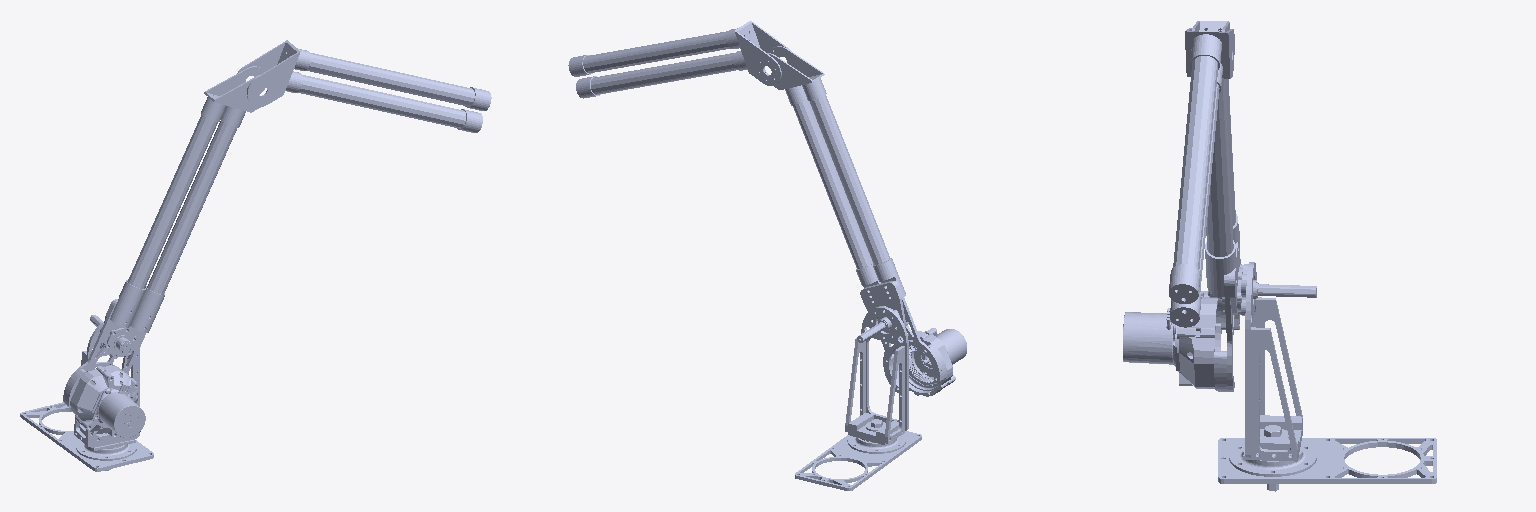
robot.urdf — arm:
<?xml version="1.0" encoding="utf-8"?>
<!-- This URDF was automatically created by SolidWorks to URDF Exporter! Originally created by [author] ([email redacted]) 
     Commit Version: 1.6.0-4-g7f85cfe  Build Version: 1.6.7995.38578
     For more information, please see http://wiki.ros.org/sw_urdf_exporter -->
<robot
  name="arm">
  <link name="world"/>
  <link
    name="Baseplate_Part">
    <inertial>
      <origin
        xyz="0.0314355367866302 0.0593135400508119 0.137105298580493"
        rpy="0 0 0" />
      <mass
        value="0.144089467104784" />
      <inertia
        ixx="0.000572165456461745"
        ixy="-1.86487987163127E-21"
        ixz="-3.19632660171926E-21"
        iyy="0.000738669236937651"
        iyz="1.2304635185752E-21"
        izz="0.000167999664039735" />
    </inertial>
    <visual>
      <origin
        xyz="0 0 0"
        rpy="0 0 0" />
      <geometry>
        <mesh
          filename="package://curie_robot_description/arm/meshes/Baseplate_Part.STL" />
      </geometry>
      <material
        name="">
        <color
          rgba="0.792156862745098 0.819607843137255 0.933333333333333 1" />
      </material>
    </visual>
    <collision>
      <origin
        xyz="0 0 0"
        rpy="0 0 0" />
      <geometry>
        <mesh
          filename="package://curie_robot_description/arm/meshes/Baseplate_Part.STL" />
      </geometry>
    </collision>
  </link>
  <joint name="world_to_base" type="fixed">
    <parent link="world"/>
    <child link="Baseplate_Part"/>
    <origin xyz="0 0 0" rpy="0 0 0"/>
  </joint>
  <link
    name="Shoulder">
    <inertial>
      <origin
        xyz="-0.000715904680960371 0.115948468031078 0.00812192398664138"
        rpy="0 0 0" />
      <mass
        value="0.200258048039819" />
      <inertia
        ixx="0.000455288262255939"
        ixy="8.42535610844894E-07"
        ixz="-6.61580139352353E-06"
        iyy="0.000141303075248095"
        iyz="-9.56153749509961E-06"
        izz="0.000529769493184708" />
    </inertial>
    <visual>
      <origin
        xyz="0 0 0"
        rpy="0 0 0" />
      <geometry>
        <mesh
          filename="package://curie_robot_description/arm/meshes/Shoulder.STL" />
      </geometry>
      <material
        name="">
        <color
          rgba="0.792156862745098 0.819607843137255 0.933333333333333 1" />
      </material>
    </visual>
    <collision>
      <origin
        xyz="0 0 0"
        rpy="0 0 0" />
      <geometry>
        <mesh
          filename="package://curie_robot_description/arm/meshes/Shoulder.STL" />
      </geometry>
    </collision>
  </link>
  <joint
    name="Shoulder_joint"
    type="continuous">
    <origin
      xyz="0.0314355367866296 -0.167112129632076 0.0215333450507679"
      rpy="1.5707963267949 0 0.0124137542544794" />
    <parent
      link="Baseplate_Part" />
    <child
      link="Shoulder" />
    <axis
      xyz="0 1 0" />
  </joint>
  <link
    name="Bicep_Linkage">
    <inertial>
      <origin
        xyz="0.0100139189510432 0.0430160982895761 0.0800268042863693"
        rpy="0 0 0" />
      <mass
        value="0.710553792219542" />
      <inertia
        ixx="0.00175286867498736"
        ixy="-0.00051770489038863"
        ixz="-3.2246429380841E-05"
        iyy="0.000600488983010965"
        iyz="-4.21684509402196E-05"
        izz="0.00213116568368076" />
    </inertial>
    <visual>
      <origin
        xyz="0 0 0"
        rpy="0 0 0" />
      <geometry>
        <mesh
          filename="package://curie_robot_description/arm/meshes/Bicep_Linkage.STL" />
      </geometry>
      <material
        name="">
        <color
          rgba="0.792156862745098 0.819607843137255 0.933333333333333 1" />
      </material>
    </visual>
    <collision>
      <origin
        xyz="0 0 0"
        rpy="0 0 0" />
      <geometry>
        <mesh
          filename="package://curie_robot_description/arm/meshes/Bicep_Linkage.STL" />
      </geometry>
    </collision>
  </link>
  <joint
    name="Bicep_Joint"
    type="continuous">
    <origin
      xyz="0 0.254 0"
      rpy="0.00812251575960651 0.000375080547518232 -0.0922896907892129" />
    <parent
      link="Shoulder" />
    <child
      link="Bicep_Linkage" />
    <axis
      xyz="0.0877948496902314 0 -0.996138576889716" />
  </joint>
  <link
    name="Forearm_Linkage">
    <inertial>
      <origin
        xyz="0.0394325704715627 -0.198393295644367 0.0308669299713195"
        rpy="0 0 0" />
      <mass
        value="0.219147216076021" />
      <inertia
        ixx="0.00169438030646619"
        ixy="4.59283261635274E-05"
        ixz="-5.55030464684521E-07"
        iyy="8.27117610068623E-05"
        iyz="2.74379304292093E-06"
        izz="0.00170437655432851" />
    </inertial>
    <visual>
      <origin
        xyz="0 0 0"
        rpy="0 0 0" />
      <geometry>
        <mesh
          filename="package://curie_robot_description/arm/meshes/Forearm_Linkage.STL" />
      </geometry>
      <material
        name="">
        <color
          rgba="0.792156862745098 0.819607843137255 0.933333333333333 1" />
      </material>
    </visual>
    <collision>
      <origin
        xyz="0 0 0"
        rpy="0 0 0" />
      <geometry>
        <mesh
          filename="package://curie_robot_description/arm/meshes/Forearm_Linkage.STL" />
      </geometry>
    </collision>
  </link>
  <joint
    name="Forearm_Joint"
    type="continuous">
    <origin
      xyz="0.205747654962669 0.439277543744026 0.0430310161664866"
      rpy="-0.0832050094036542 0.0319809506650058 1.23725552365871" />
    <parent
      link="Bicep_Linkage" />
    <child
      link="Forearm_Linkage" />
    <axis
      xyz="0.0605805514570394 0 -0.998163311680589" />
  </joint>
  <link
    name="Wrist_Pitch">
    <inertial>
      <origin
        xyz="-0.0138523212718659 0.0636510542969802 0.0885404926741277"
        rpy="0 0 0" />
      <mass
        value="0.224814880452066" />
      <inertia
        ixx="8.70710738360255E-05"
        ixy="2.05724646735683E-06"
        ixz="5.0396547907612E-07"
        iyy="7.38013935980191E-05"
        iyz="-1.00050832078055E-06"
        izz="7.28230797573464E-05" />
    </inertial>
    <visual>
      <origin
        xyz="0 0 0"
        rpy="0 0 0" />
      <geometry>
        <mesh
          filename="package://curie_robot_description/arm/meshes/Wrist_Pitch.STL" />
      </geometry>
      <material
        name="">
        <color
          rgba="0.792156862745098 0.819607843137255 0.933333333333333 1" />
      </material>
    </visual>
    <collision>
      <origin
        xyz="0 0 0"
        rpy="0 0 0" />
      <geometry>
        <mesh
          filename="package://curie_robot_description/arm/meshes/Wrist_Pitch.STL" />
      </geometry>
    </collision>
  </link>
  <joint
    name="Wrist_pitch_joint"
    type="fixed">
    <origin
      xyz="0.0614760326108716 -0.449236652255744 0.0948418360911152"
      rpy="-2.41679788371581 0.00131623687607705 1.59248518727762" />
    <parent
      link="Forearm_Linkage" />
    <child
      link="Wrist_Pitch" />
    <axis
      xyz="0 0 0" />
  </joint>
  <link
    name="Wrist_Roll">
    <inertial>
      <origin
        xyz="-0.0461506740704483 -0.00130412593875406 0.000652222569832731"
        rpy="0 0 0" />
      <mass
        value="0.160457867162933" />
      <inertia
        ixx="5.21314297079899E-05"
        ixy="2.05383025504808E-06"
        ixz="5.02330913848901E-07"
        iyy="5.37038895290569E-05"
        iyz="-6.0540027156568E-06"
        izz="5.09699562463387E-05" />
    </inertial>
    <visual>
      <origin
        xyz="0 0 0"
        rpy="0 0 0" />
      <geometry>
        <mesh
          filename="package://curie_robot_description/arm/meshes/Wrist_Roll.STL" />
      </geometry>
      <material
        name="">
        <color
          rgba="0.792156862745098 0.819607843137255 0.933333333333333 1" />
      </material>
    </visual>
    <collision>
      <origin
        xyz="0 0 0"
        rpy="0 0 0" />
      <geometry>
        <mesh
          filename="package://curie_robot_description/arm/meshes/Wrist_Roll.STL" />
      </geometry>
    </collision>
  </link>
  <joint
    name="Wrist_roll_joint"
    type="continuous">
    <origin
      xyz="-0.0404563209238247 -0.0124767317892557 0.0124767317892556"
      rpy="-2.03938401887035 0.785398163397445 -1.57079632679489" />
    <parent
      link="Wrist_Pitch" />
    <child
      link="Wrist_Roll" />
    <axis
      xyz="1 0 0" />
  </joint>
</robot>

--- What the picture shows (computed from the rendered views, not written in the file) ---
The picture shows the robot from 3 angles, left to right: view 1: azimuth 30°, elevation 25°; view 2: azimuth 150°, elevation 25°; view 3: azimuth 270°, elevation 25°; orthographic projection.
Robot: arm — 7 links, 6 joints (4 continuous, 2 fixed); root link world; default pose: all joints at 0.
Links seen in each view (by area): view 1: Bicep_Linkage, Forearm_Linkage, Baseplate_Part, Shoulder; view 2: Bicep_Linkage, Forearm_Linkage, Shoulder, Baseplate_Part; view 3: Bicep_Linkage, Forearm_Linkage, Baseplate_Part, Shoulder.
Link boxes in pixels (<box>): Bicep_Linkage: <box>63,66,265,437</box>; Forearm_Linkage: <box>237,40,491,132</box>; Baseplate_Part: <box>20,402,153,471</box>; Shoulder: <box>74,322,139,470</box>; Bicep_Linkage: <box>764,46,966,396</box>; Forearm_Linkage: <box>568,21,790,98</box>; Shoulder: <box>845,306,908,444</box>; Baseplate_Part: <box>795,431,921,490</box>; Bicep_Linkage: <box>1123,21,1316,391</box>; Forearm_Linkage: <box>1169,28,1234,327</box>; Baseplate_Part: <box>1218,438,1436,483</box>; Shoulder: <box>1241,262,1302,491</box>.
Size in the robot's own frame: 0.777 by 0.3648 by 0.7305 metres.
Meshes: 6 distinct files referenced, 4 mesh visuals loaded (4 binary STL); not drawn: 2 (reference not matched to a file when rendering).
